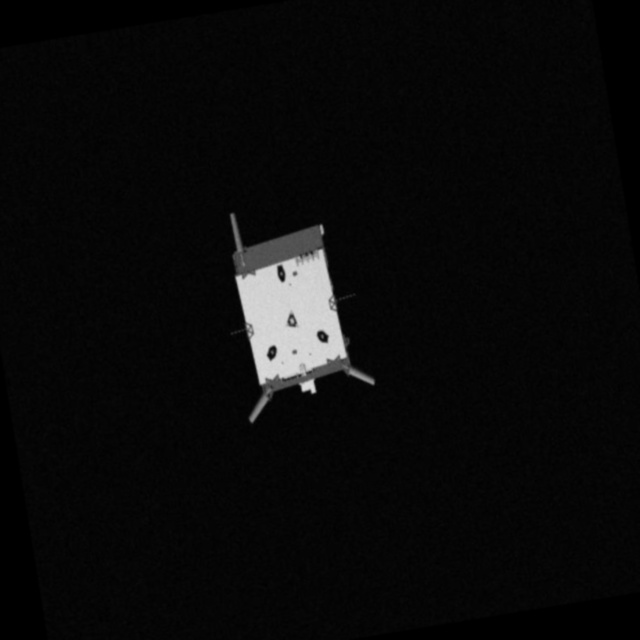satellite: (212, 184, 385, 433)
